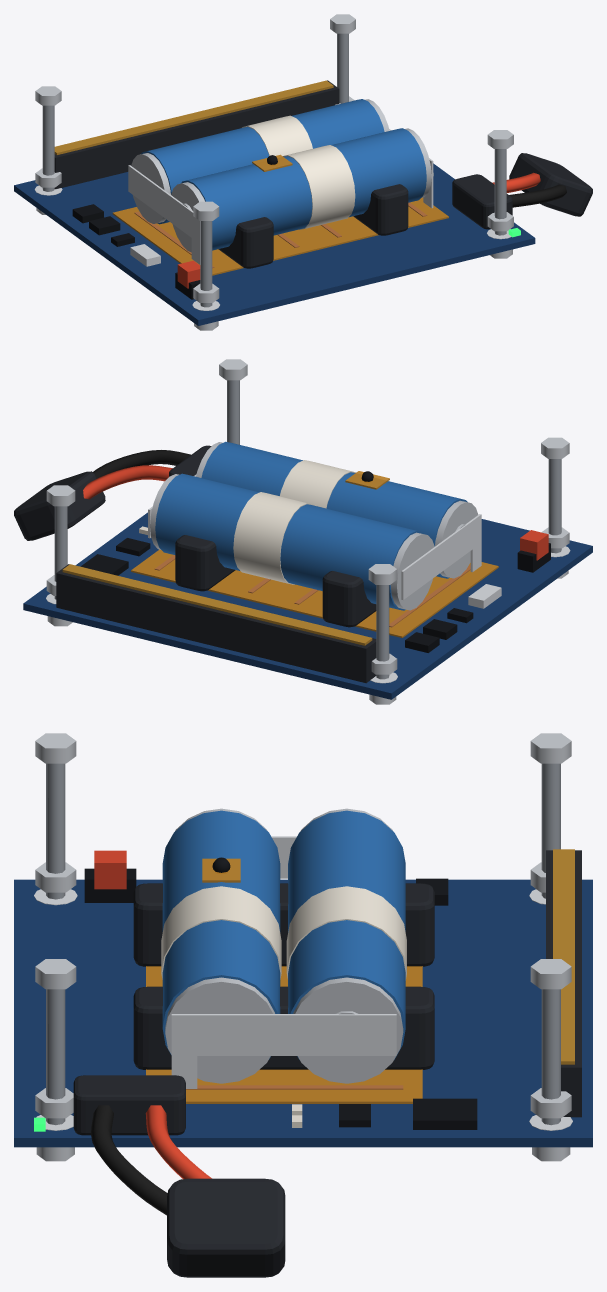
File: battery-small.glb
The picture shows the model from 3 angles, top to bottom: view 1: azimuth 30°, elevation 25°; view 2: azimuth 150°, elevation 25°; view 3: azimuth 270°, elevation 25°; orthographic projection. The views are drawn at different scales.
Parts seen in each view (by area): view 1: battery-small-deck-1-pcb, battery-small-cells-1-cells, battery-small-deck-1-header, battery-small-cells-1-cell-bands, battery-small-cells-1-heater, battery-small-cells-1-cradle (×2), battery-small-rods, battery-small-deck-1-header-pins, battery-small-cells-1-cell-caps, battery-small-plug, battery-small-cells-1-nickel, battery-small-power-connector (+9 smaller); view 2: battery-small-cells-1-cells, battery-small-deck-1-pcb, battery-small-deck-1-header, battery-small-cells-1-cell-bands, battery-small-cells-1-heater, battery-small-cells-1-cradle (×2), battery-small-rods, battery-small-cells-1-cell-caps, battery-small-deck-1-header-pins, battery-small-plug, battery-small-cells-1-nickel, battery-small-nuts-top (+10 smaller); view 3: battery-small-deck-1-pcb, battery-small-cells-1-cells, battery-small-cells-1-cradle (×2), battery-small-plug, battery-small-cells-1-cell-caps, battery-small-cells-1-nickel, battery-small-rods, battery-small-cells-1-cell-bands, battery-small-cells-1-heater, battery-small-power-connector, battery-small-nuts-top, battery-small-deck-1-header-pins (+12 smaller).
Boxes of the visible parts, x1,y1,x2,y2 form: battery-small-deck-1-pcb: (14,163,535,325); battery-small-cells-1-cells: (141,99,426,250); battery-small-deck-1-header: (54,80,339,189); battery-small-cells-1-cell-bands: (242,115,355,229); battery-small-cells-1-heater: (112,197,448,275); battery-small-cells-1-cradle (×2): (218,184,408,268); battery-small-rods: (42,33,506,307); battery-small-deck-1-header-pins: (54,80,333,154); battery-small-cells-1-cell-caps: (131,99,431,252); battery-small-plug: (509,153,592,216); battery-small-cells-1-nickel: (128,165,200,237); battery-small-power-connector: (452,174,512,229); battery-small-cells-1-cells: (155,441,467,610); battery-small-deck-1-pcb: (23,512,592,699); battery-small-deck-1-header: (56,564,376,683); battery-small-cells-1-cell-bands: (233,460,356,584); battery-small-cells-1-heater: (131,549,498,637); battery-small-cells-1-cradle (×2): (175,535,376,627); battery-small-rods: (54,380,561,679); battery-small-cells-1-cell-caps: (150,442,478,610); battery-small-deck-1-header-pins: (62,564,372,645); battery-small-plug: (14,471,105,540); battery-small-cells-1-nickel: (401,514,481,599); battery-small-nuts-top: (46,359,569,584); battery-small-deck-1-pcb: (14,879,592,1147); battery-small-cells-1-cells: (162,810,405,1059); battery-small-cells-1-cradle (×2): (133,883,434,1069); battery-small-plug: (167,1178,285,1277); battery-small-cells-1-cell-caps: (165,808,403,1083); battery-small-cells-1-nickel: (171,1014,396,1055); battery-small-rods: (46,763,560,1125); battery-small-cells-1-cell-bands: (161,886,406,980); battery-small-cells-1-heater: (146,966,422,1103); battery-small-power-connector: (73,1075,185,1135); battery-small-nuts-top: (35,733,571,989); battery-small-deck-1-header-pins: (553,849,574,1064).
Bounding box in the file's own units: 0.1263 × 0.0376 × 0.09.
